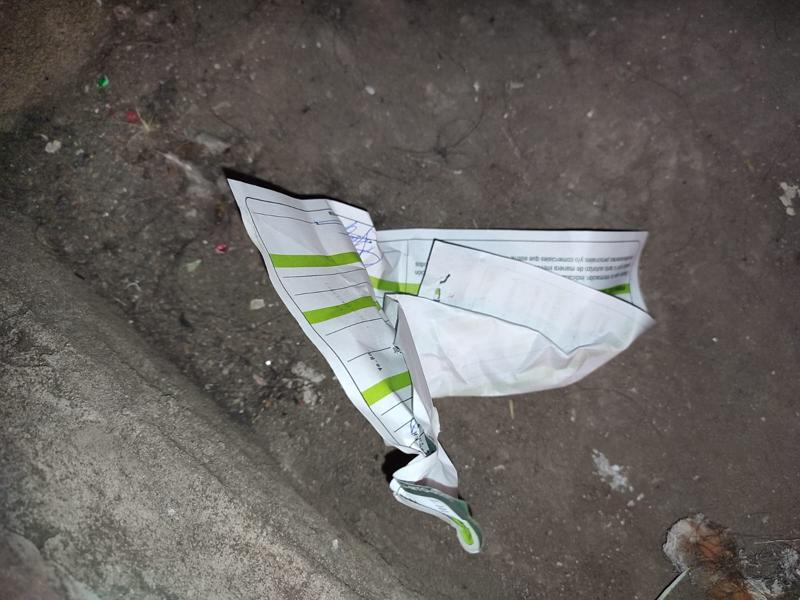papel: (230, 174, 653, 554)
